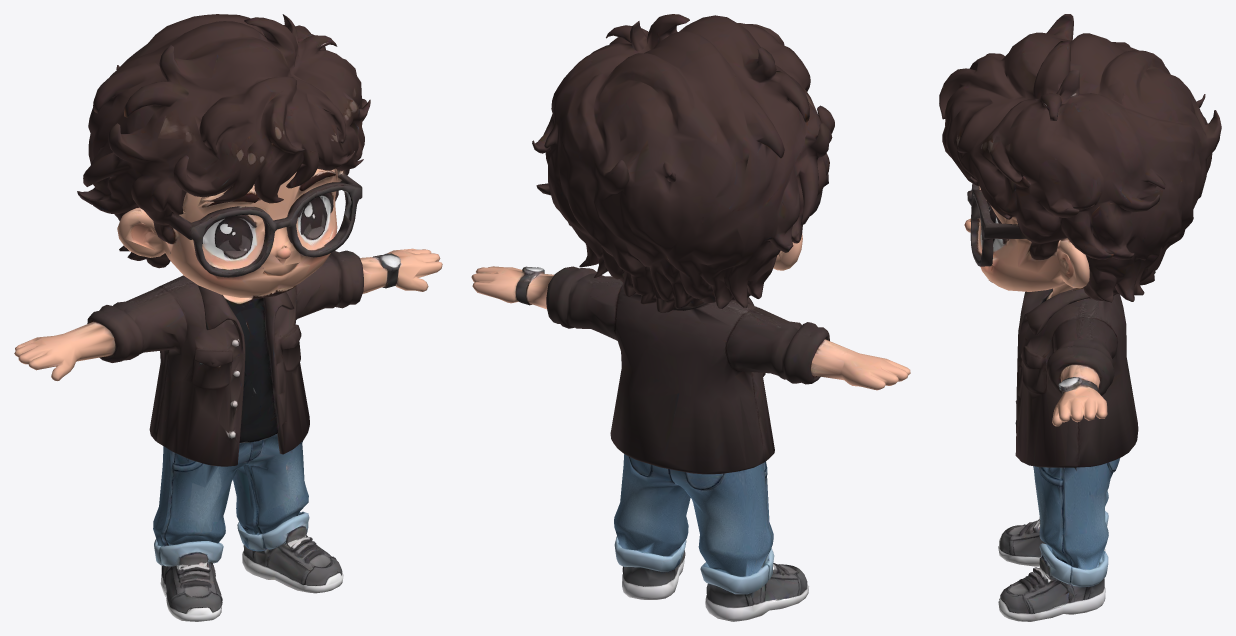
File: pilot.glb
The picture shows the model from 3 angles, left to right: view 1: azimuth 30°, elevation 25°; view 2: azimuth 150°, elevation 25°; view 3: azimuth 270°, elevation 25°; orthographic projection. The views are drawn at different scales.
Parts seen in each view (by area): view 1: ChibiCharacter; view 2: ChibiCharacter; view 3: ChibiCharacter.
Boxes of the visible parts, x1,y1,x2,y2 form: ChibiCharacter: (14,14,442,621); ChibiCharacter: (471,14,910,621); ChibiCharacter: (939,14,1221,621).
Bounding box in the file's own units: 0.941 × 1.2 × 0.5594.
1 material, 1 textured.
